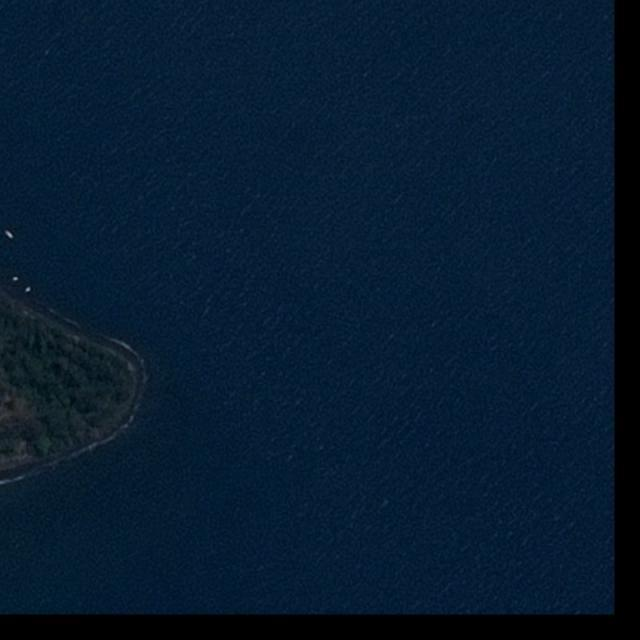ship: (3, 229, 16, 241), (24, 286, 32, 294), (13, 277, 20, 282)
